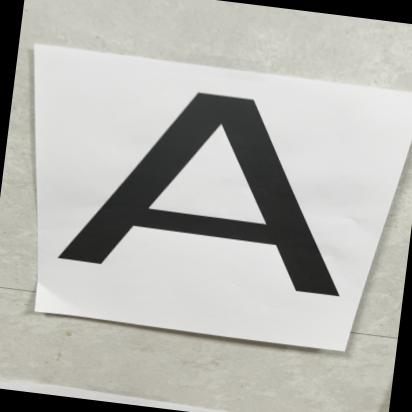seat: (11, 56, 380, 332)
